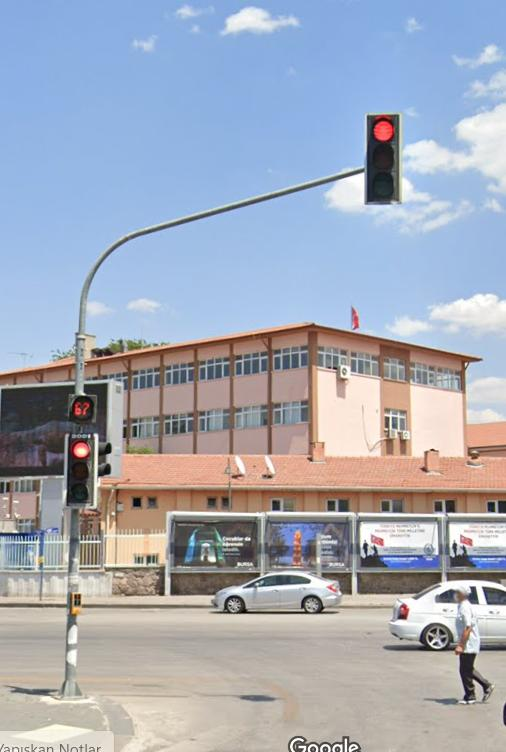redlight: (366, 115, 402, 203), (66, 433, 95, 507)
